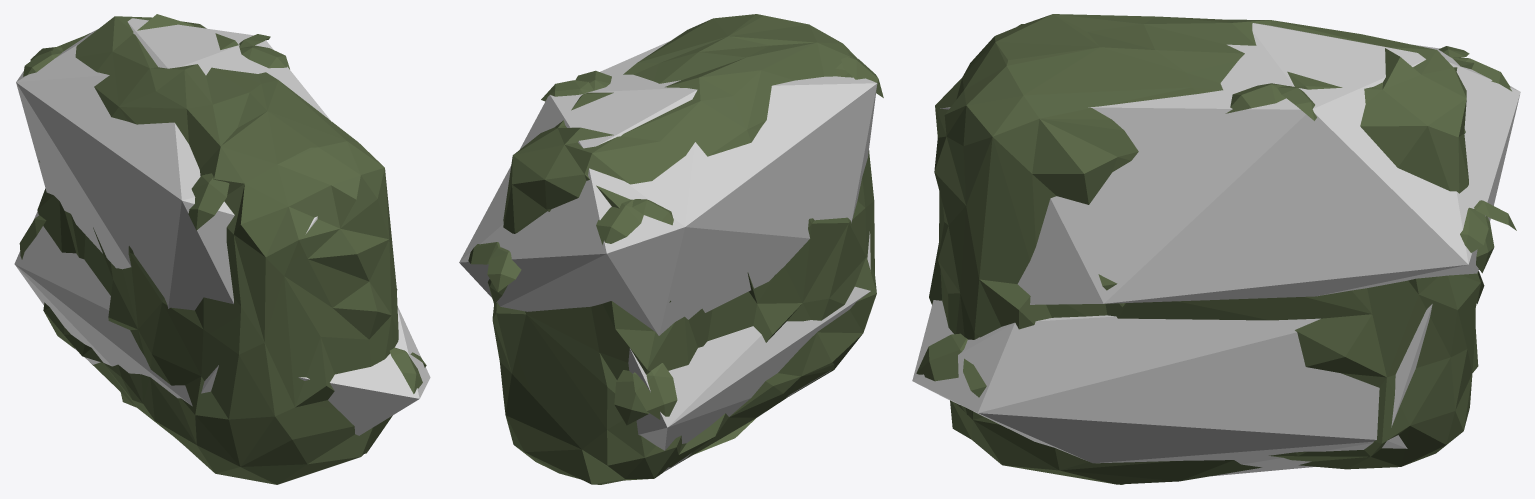
Rendered from SM_Env_Hedge_Bush_06.fbx.
The picture shows the model from 3 angles, left to right: view 1: azimuth 30°, elevation 25°; view 2: azimuth 150°, elevation 25°; view 3: azimuth 270°, elevation 25°; orthographic projection. The views are drawn at different scales.
Visible parts, largest first — view 1: SM_Env_Hedge_Bush_06, SM_Env_Hedge_Bush_06_ConvexHulls; view 2: SM_Env_Hedge_Bush_06, SM_Env_Hedge_Bush_06_ConvexHulls; view 3: SM_Env_Hedge_Bush_06_ConvexHulls, SM_Env_Hedge_Bush_06.
Boxes of the visible parts, x1=… form: SM_Env_Hedge_Bush_06: x1=19, y1=14, x2=426, y2=484; SM_Env_Hedge_Bush_06_ConvexHulls: x1=14, y1=18, x2=430, y2=453; SM_Env_Hedge_Bush_06: x1=468, y1=14, x2=883, y2=484; SM_Env_Hedge_Bush_06_ConvexHulls: x1=459, y1=40, x2=877, y2=472; SM_Env_Hedge_Bush_06_ConvexHulls: x1=912, y1=23, x2=1520, y2=476; SM_Env_Hedge_Bush_06: x1=916, y1=14, x2=1516, y2=484.
Bounding box in the file's own units: 92.74 × 178 × 137.
2 materials, 1 textured.
